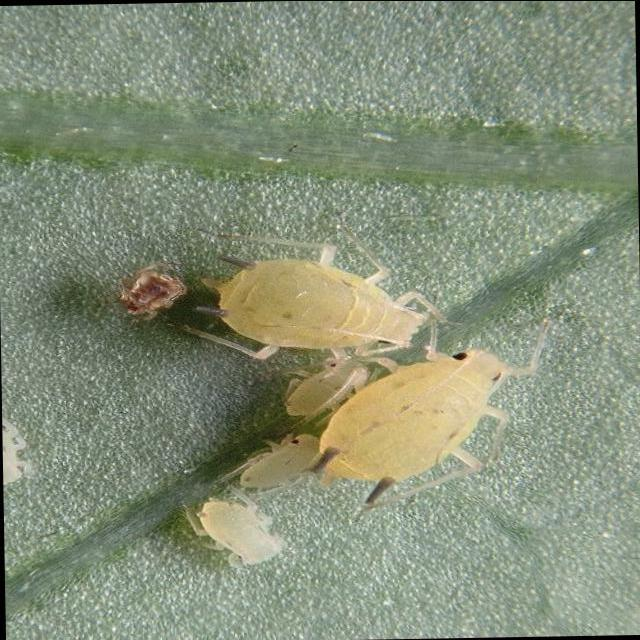aphid: (189, 232, 441, 378), (328, 344, 540, 494), (180, 484, 286, 577), (216, 425, 330, 504)
